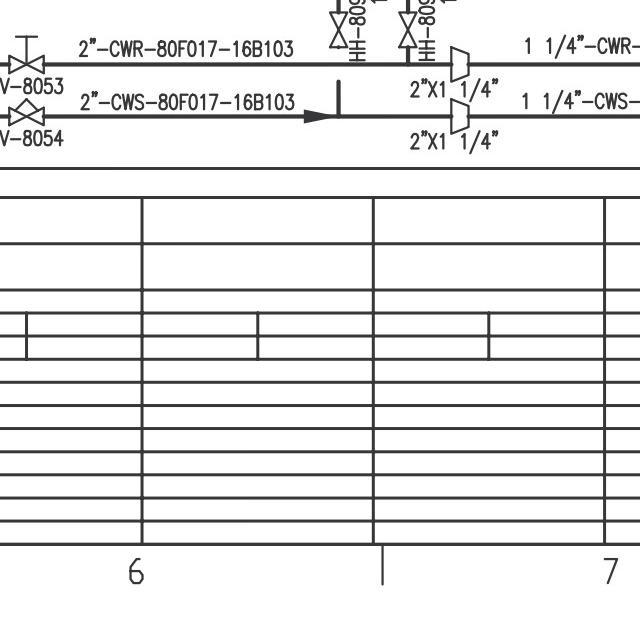GV: (397, 10, 417, 51), (330, 8, 349, 51)
HV: (5, 27, 49, 77)
SP: (446, 96, 474, 137), (447, 45, 472, 86)
